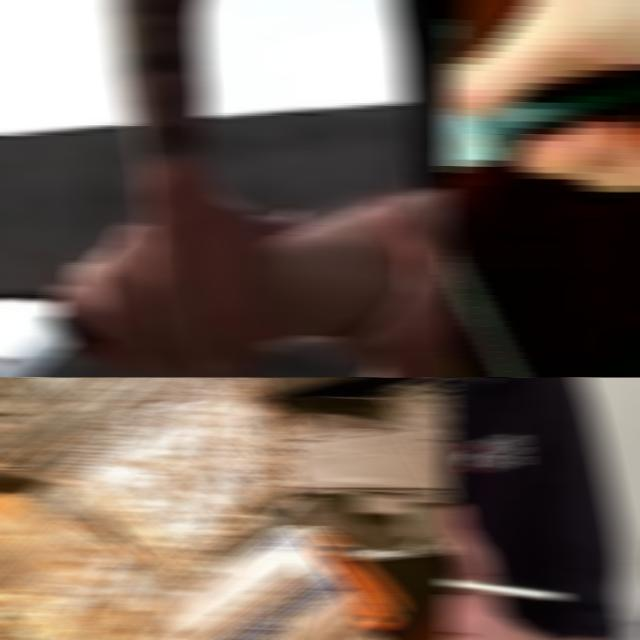Knife: (0, 316, 86, 377)
Knife_Handle: (442, 0, 640, 185), (0, 224, 170, 377), (442, 499, 567, 640)
